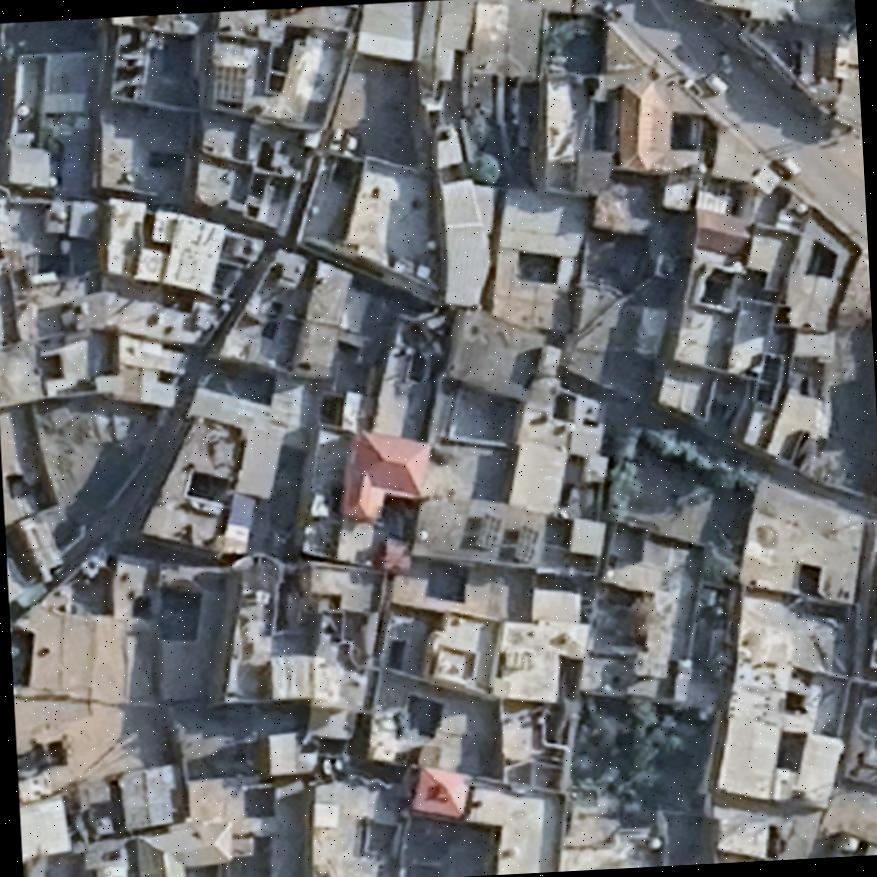Solarpanel: (208, 60, 250, 108)
